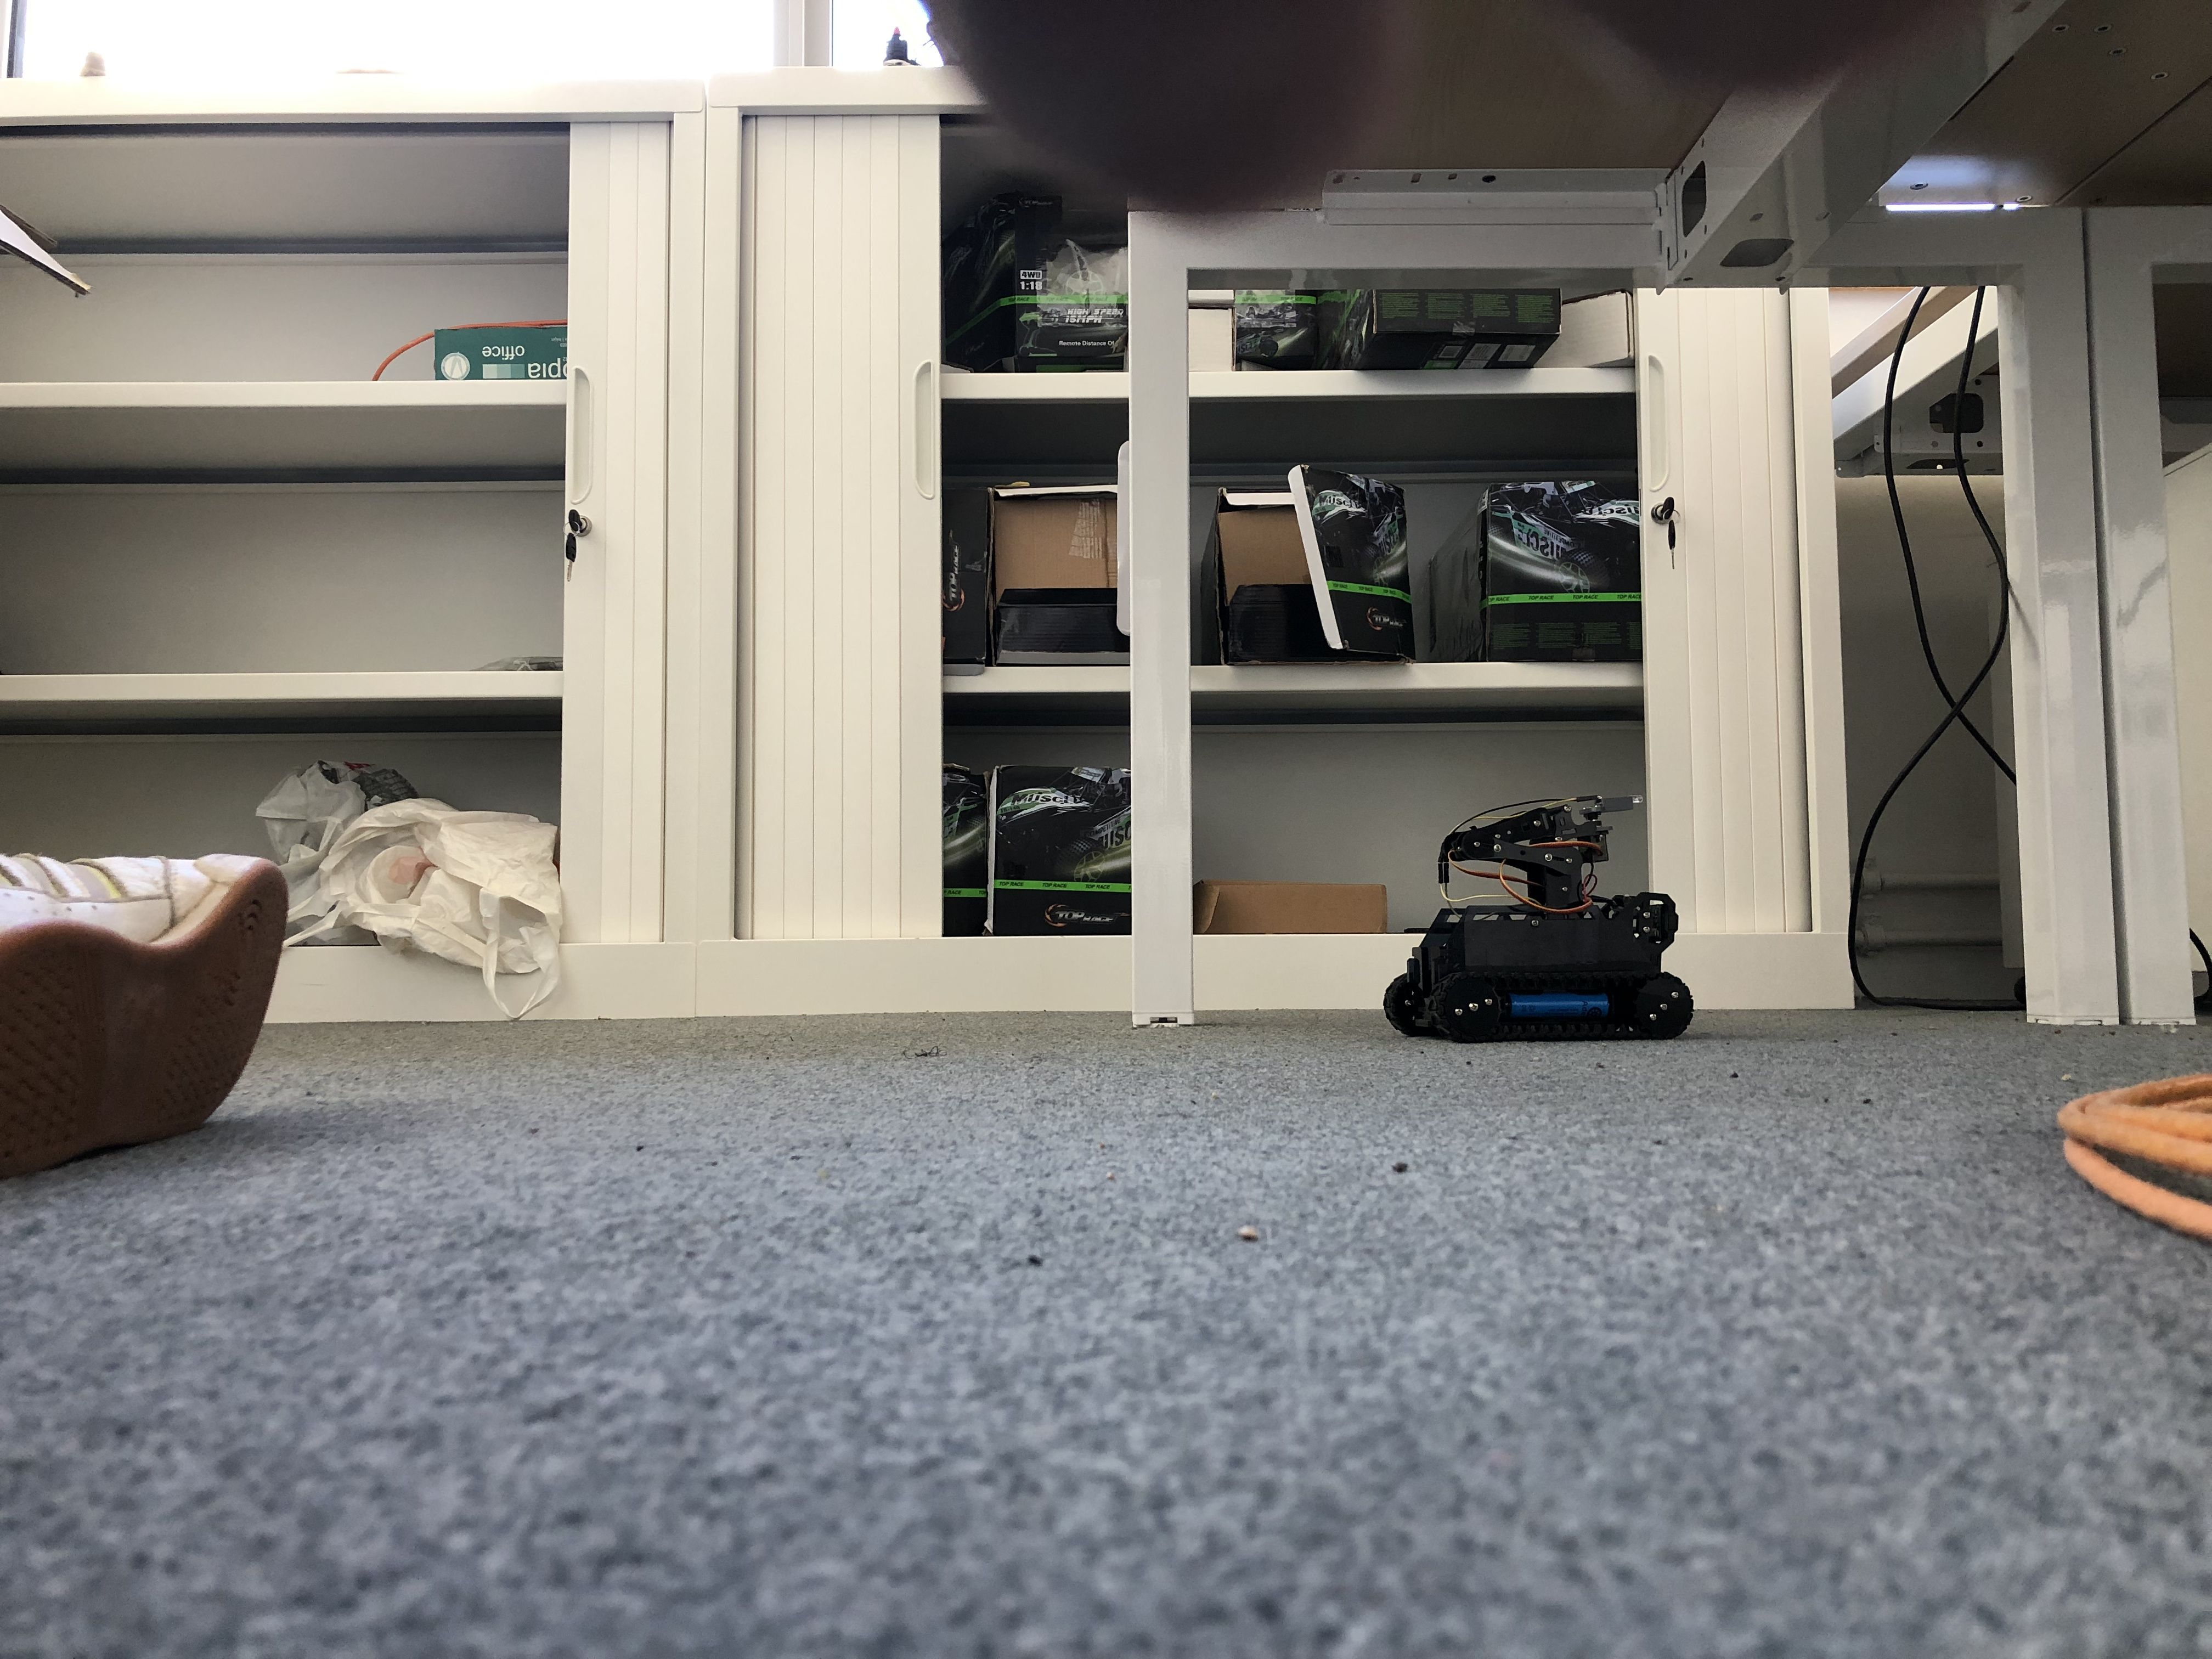rasptank: (1385, 795, 1696, 1042)
